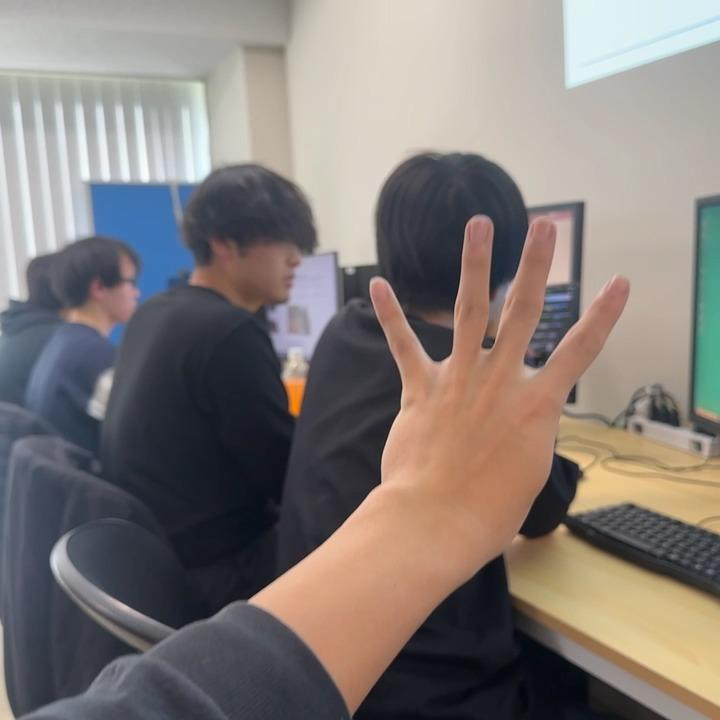without_gloves: (373, 212, 620, 536)
